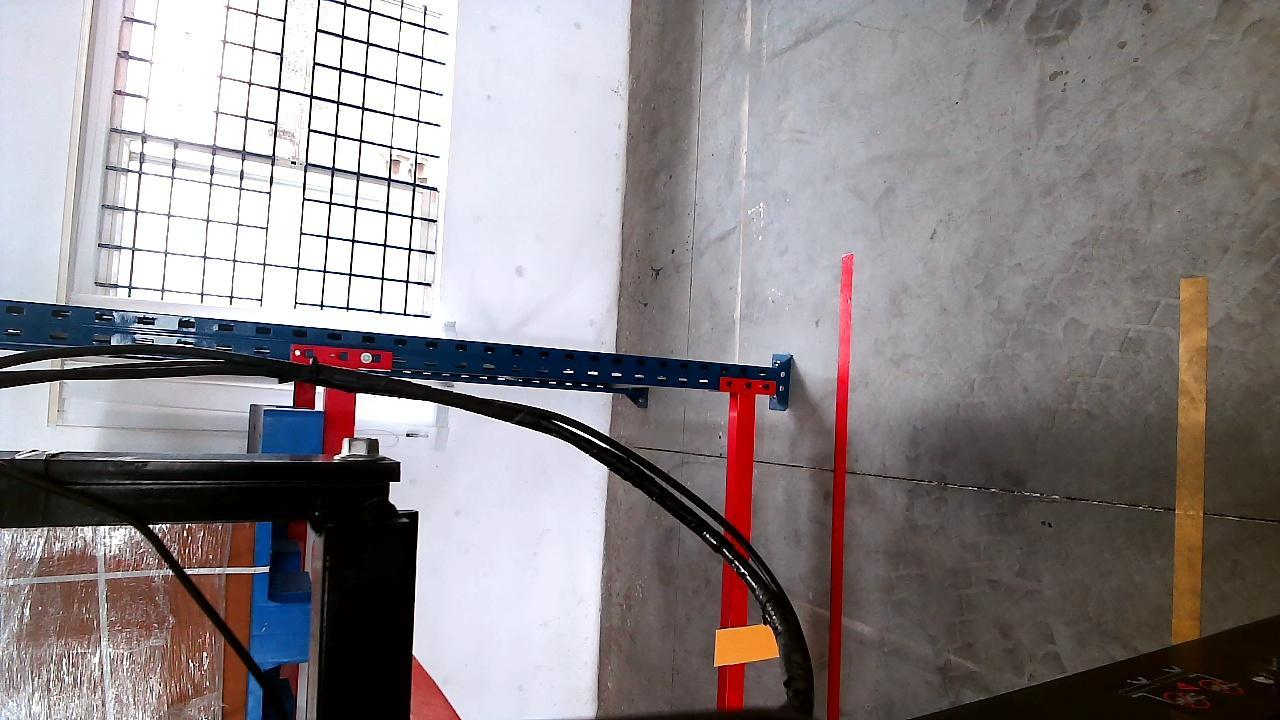red_line: (826, 251, 854, 720)
yellow_line: (1174, 276, 1209, 636)
